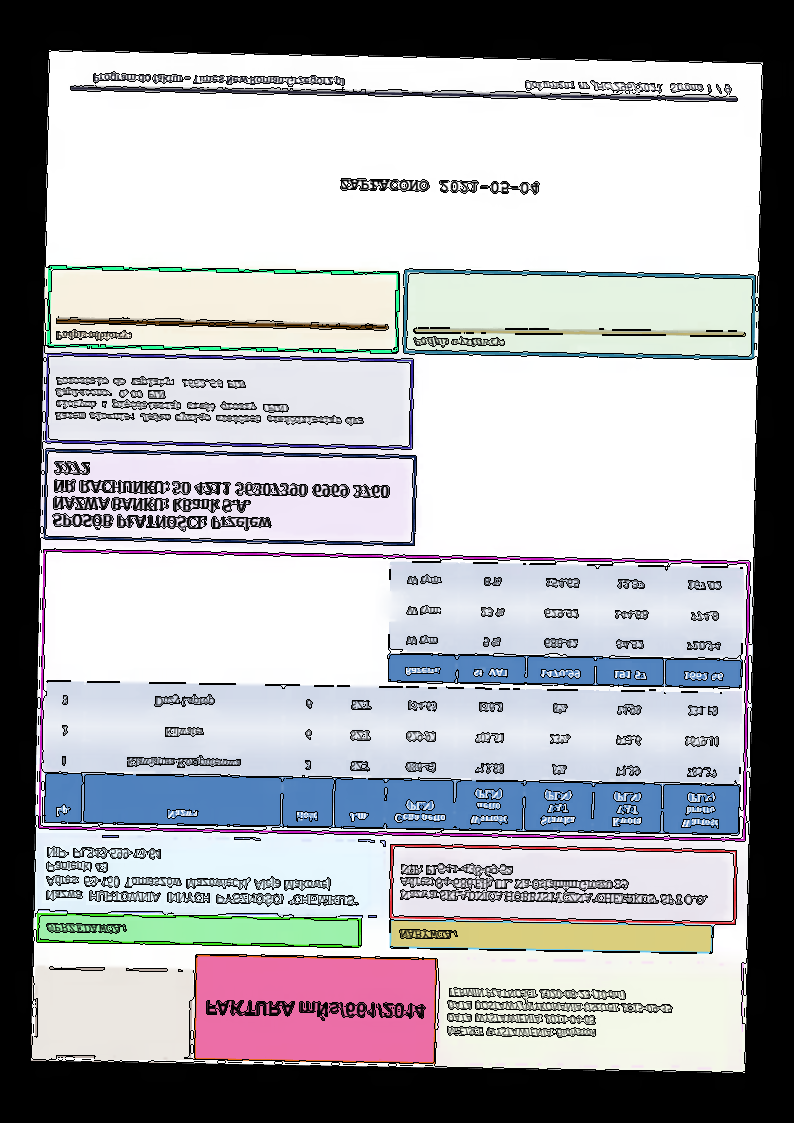Table: (43, 679, 742, 836), (386, 560, 745, 690)
TextBox: (50, 459, 391, 536), (44, 844, 362, 910), (53, 374, 367, 429), (397, 861, 710, 909), (445, 986, 674, 1042), (204, 998, 427, 1023), (91, 70, 346, 88), (339, 176, 541, 197), (522, 78, 732, 96), (412, 334, 506, 350), (54, 328, 131, 344), (45, 921, 128, 935), (397, 927, 459, 941)
